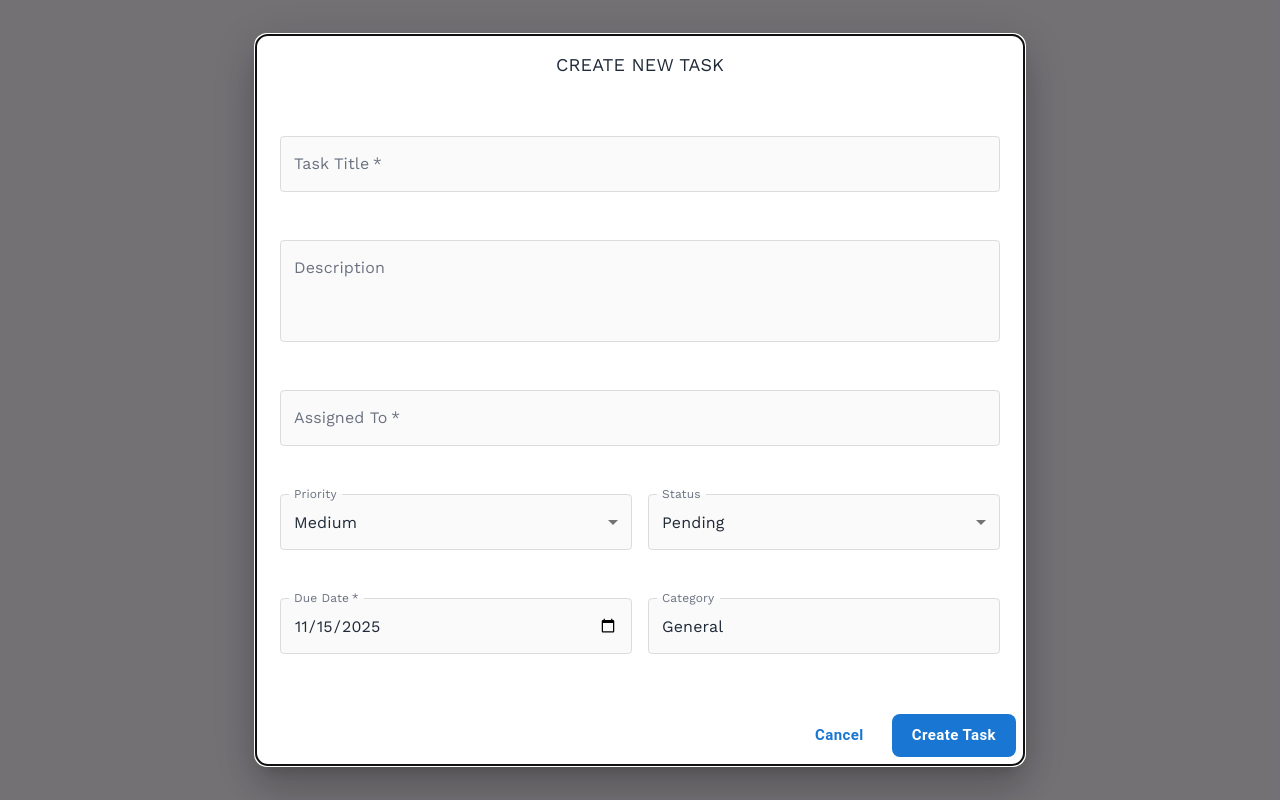
Test case: CreateTodoDialog › validates assignedTo field
Note: Fill only title
Type "Test Task" into the field labelled "Task Title *" at (640, 164), box [280,136,1000,192]
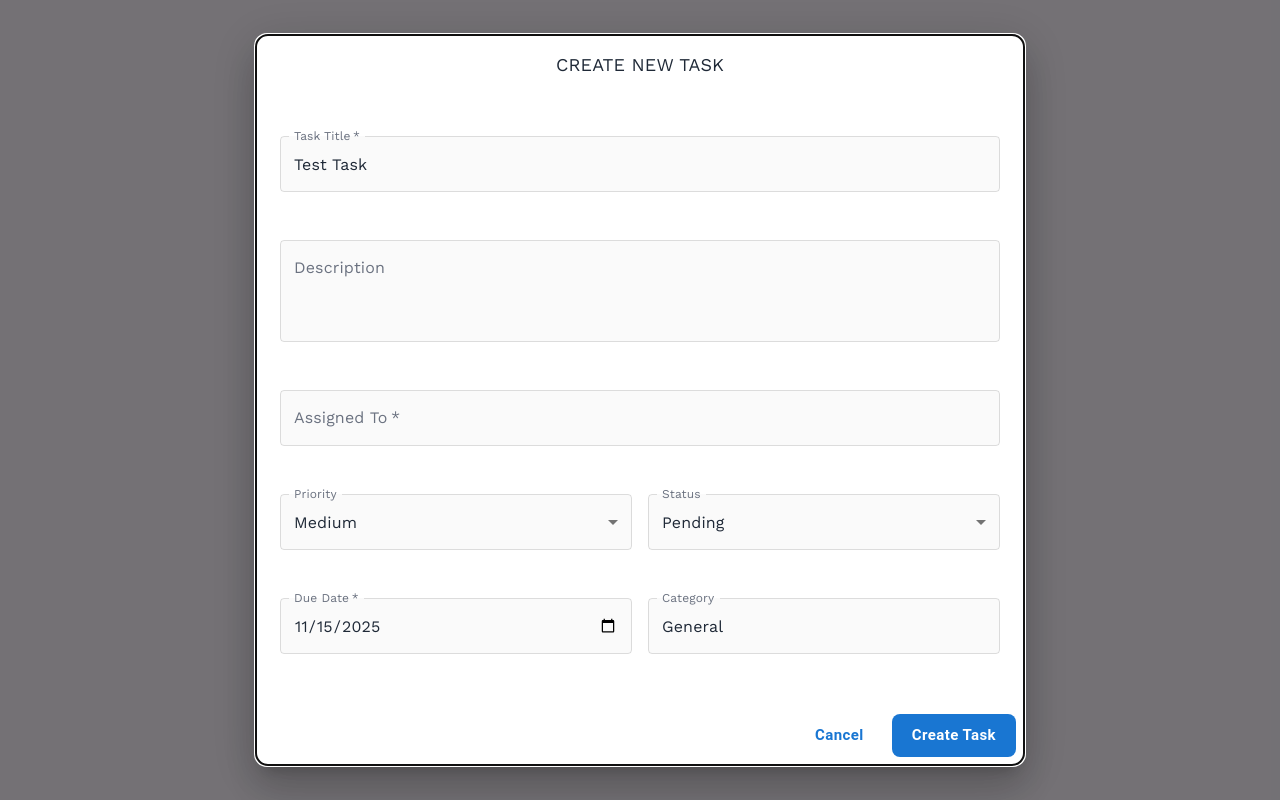
Click the button "Create Task" at (954, 735), box [892,714,1016,757]
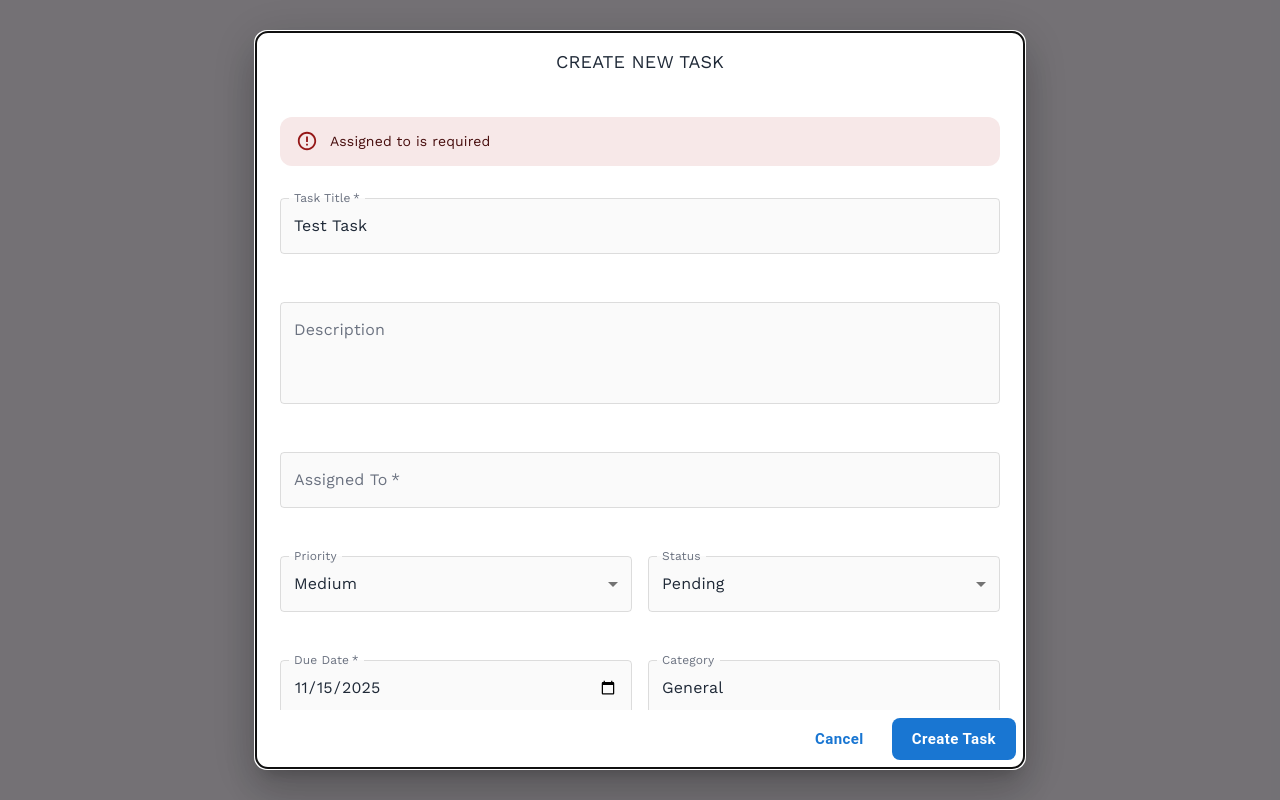
expect the text "Assigned to is required" is shown: met, box [330,133,490,149]
